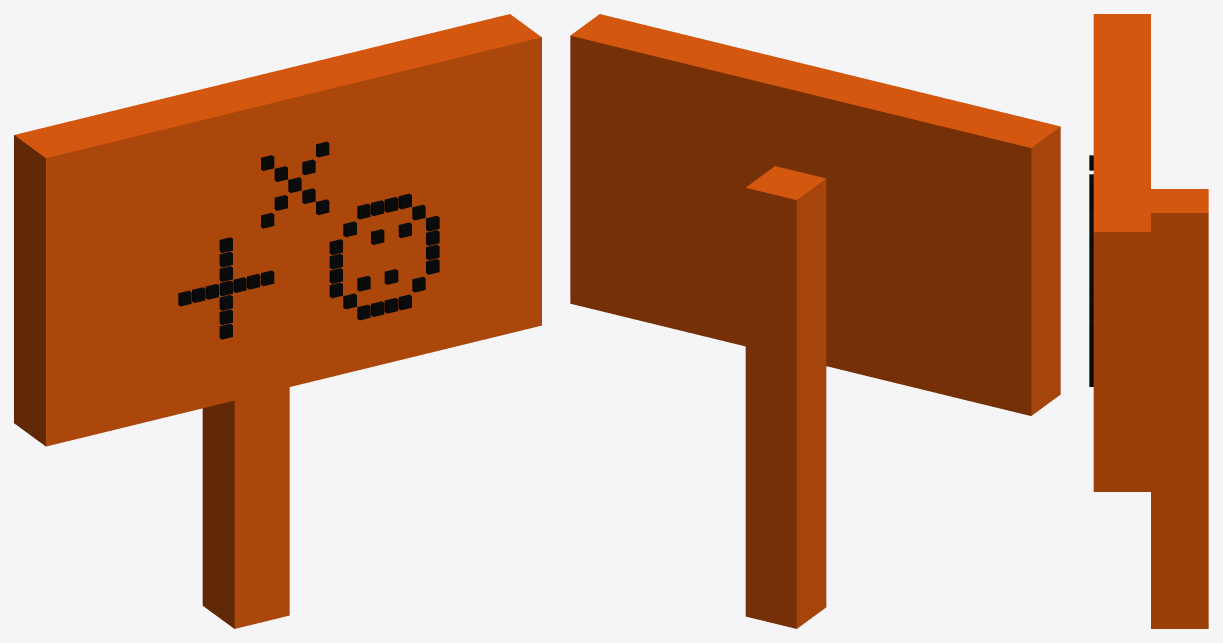
The model's file is NoExtraCost.fbx.
3 renders of one model, left to right at view 1: azimuth 30°, elevation 25°; view 2: azimuth 150°, elevation 25°; view 3: azimuth 270°, elevation 25°, orthographic. The views are drawn at different scales.
Parts seen in each view (by area): view 1: 板, 杭; view 2: 板, 杭; view 3: 板, 杭.
Boxes of the visible parts, x1,y1,x2,y2 form: 板: (14,14,541,446); 杭: (202,387,289,628); 板: (570,14,1060,415); 杭: (745,166,826,628); 板: (1093,14,1150,491); 杭: (1151,189,1208,628).
Size of the model in its own units: 180 by 190 by 41.5.
